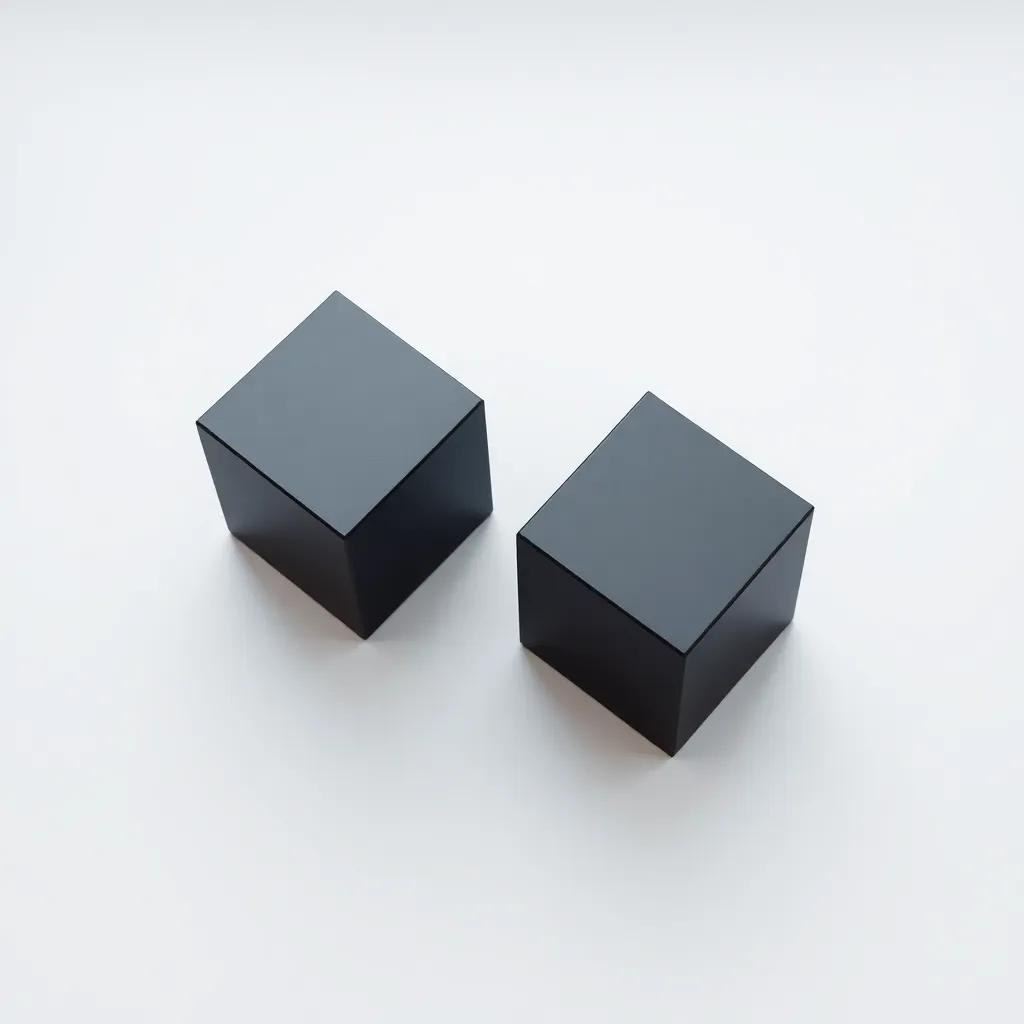cube: (514, 388, 814, 757), (194, 287, 493, 640)
